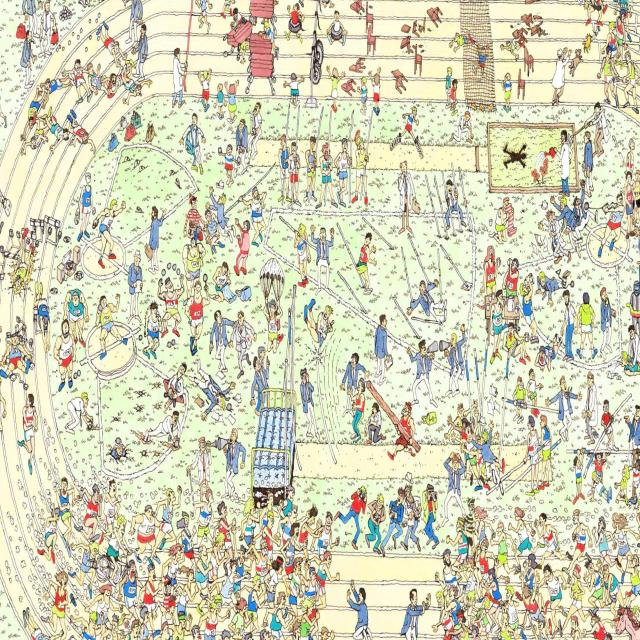waldo: (189, 193, 197, 210)
